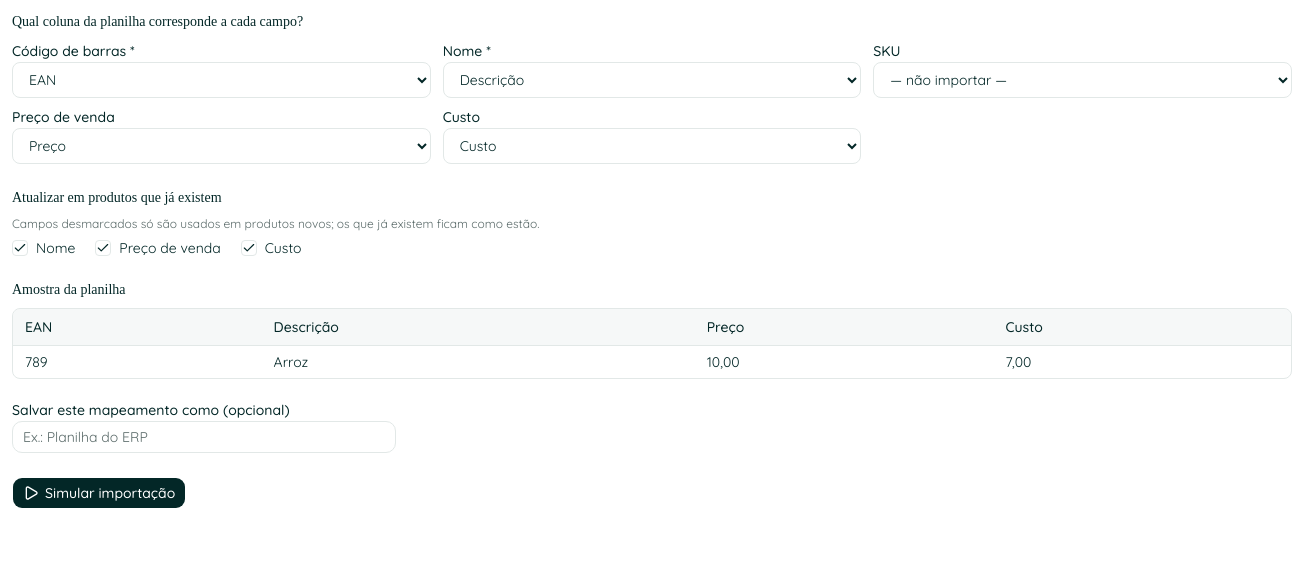
Scenario: MappingStep › erro do backend aparece na tela
This screenshot has width=1304, height=569.
What coordinates should you click on to do the following:
click the button "Simular importação"
I would click on:
 (99, 493)
Its box is 12,477 -> 186,509.
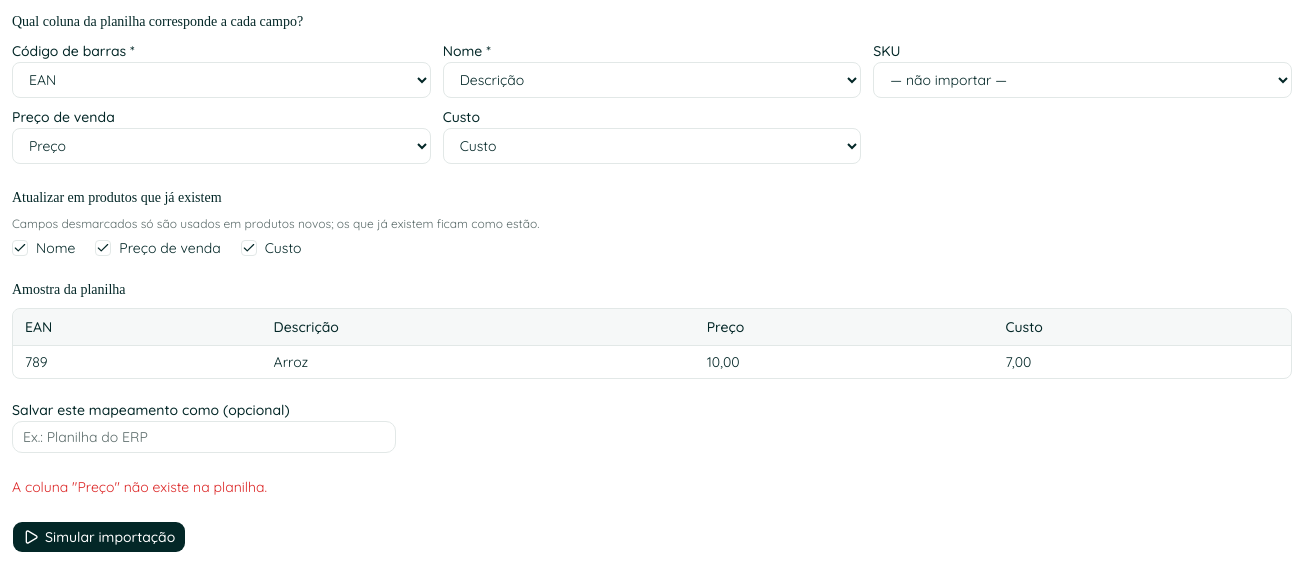
Now the message reads "A coluna \"Preço\" não existe na planilha.", box 12,478 -> 267,496
